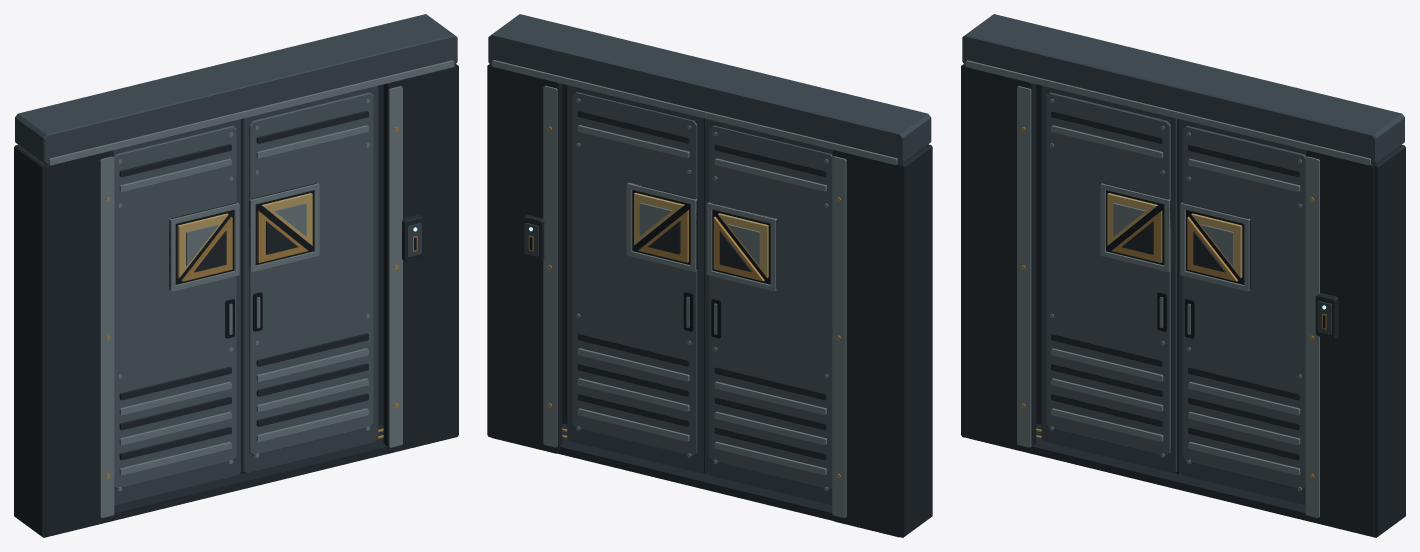
File: A-06_milky_way_doors.glb
3 renders of one model, left to right at view 1: azimuth 30°, elevation 25°; view 2: azimuth 150°, elevation 25°; view 3: azimuth 330°, elevation 25°, orthographic.
Visible parts, largest first — view 1: Frame, Leaf.R, Leaf.L; view 2: Frame, Leaf.R, Leaf.L; view 3: Frame, Leaf.L, Leaf.R.
Part boxes in pixels (left/top/right/bottom): Frame: left=14, top=14, right=458, bottom=537; Leaf.R: left=241, top=85, right=378, bottom=473; Leaf.L: left=113, top=118, right=242, bottom=505; Frame: left=487, top=14, right=932, bottom=537; Leaf.R: left=567, top=85, right=704, bottom=473; Leaf.L: left=703, top=118, right=833, bottom=505; Frame: left=961, top=14, right=1405, bottom=537; Leaf.L: left=1041, top=85, right=1178, bottom=473; Leaf.R: left=1178, top=119, right=1306, bottom=505.
Bounding box in the file's own units: 2.56 × 2.36 × 0.412.
